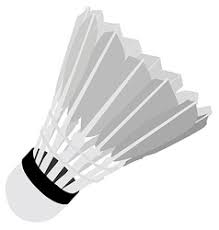shuttle: (8, 7, 211, 217)
